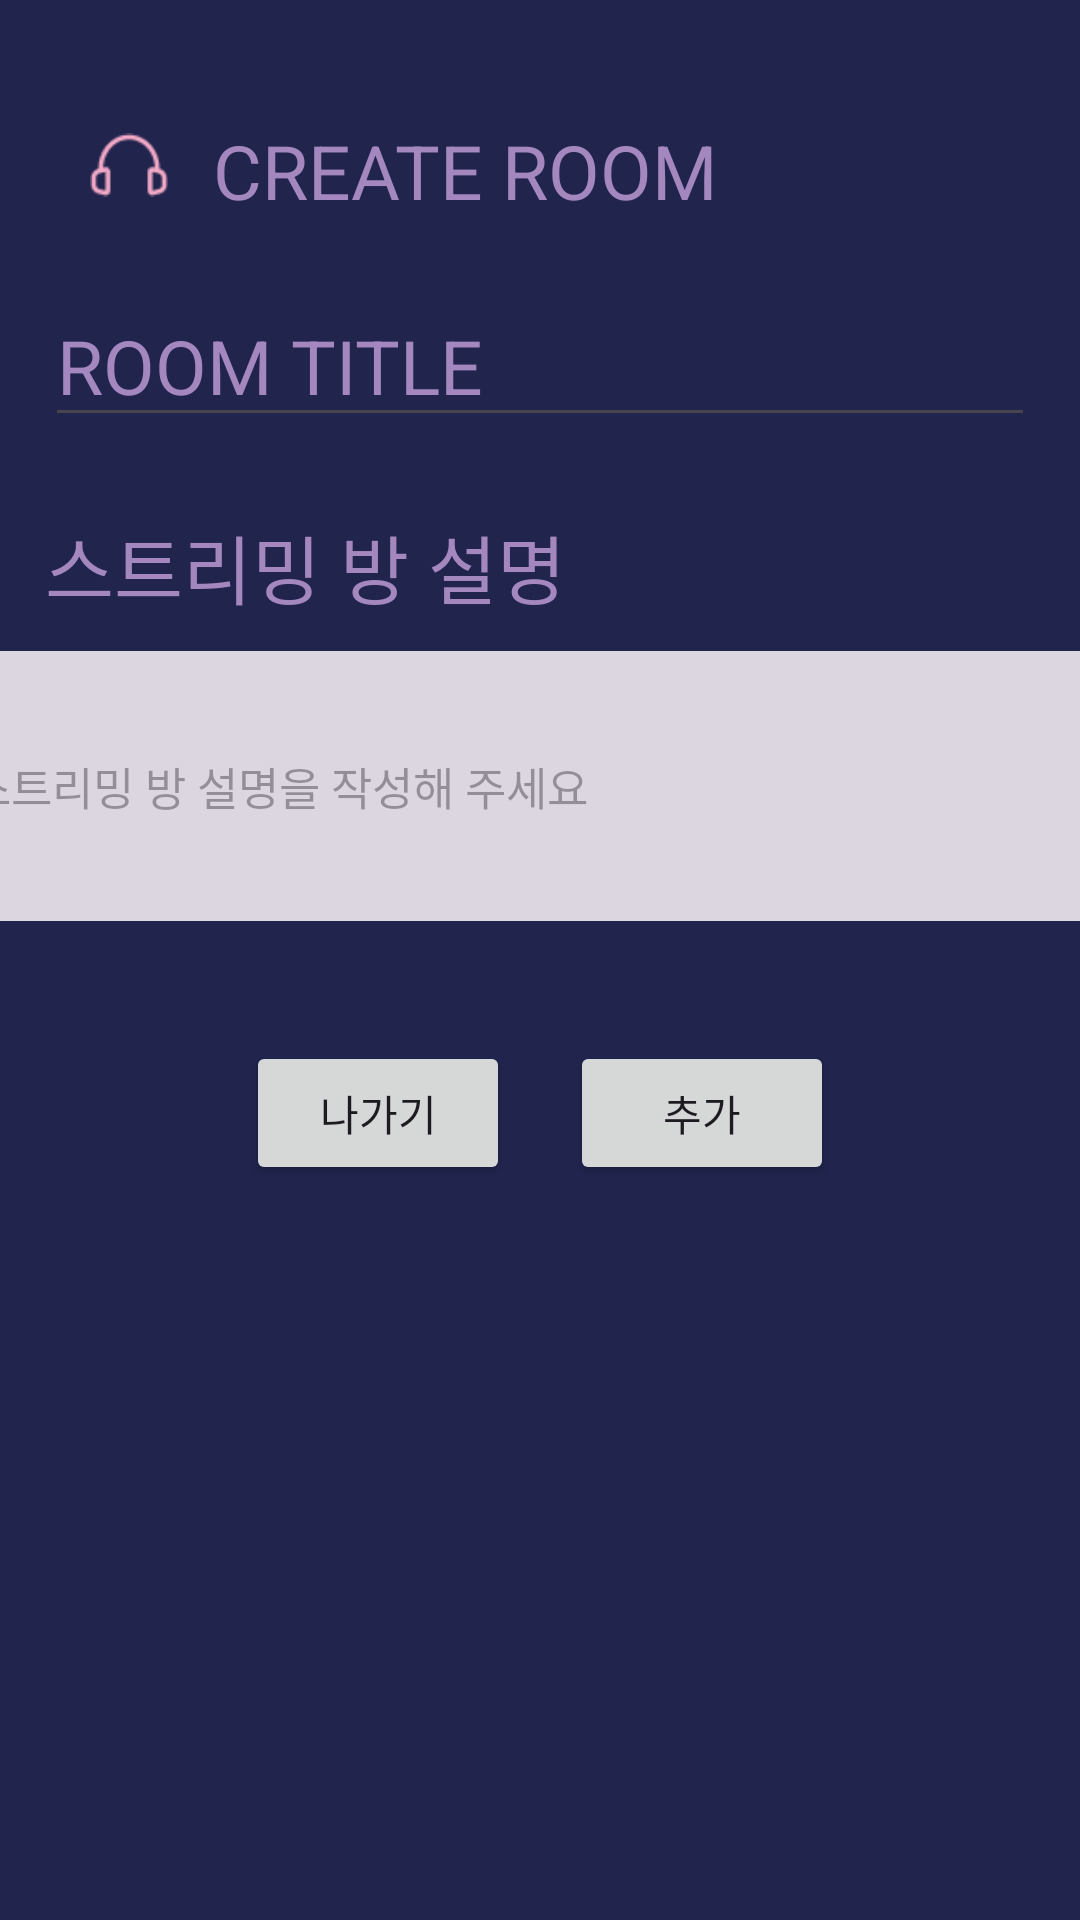

Where to tap for icons on this 1080px x 1920px app screen, as (x,y):
streaming: (129,165)
